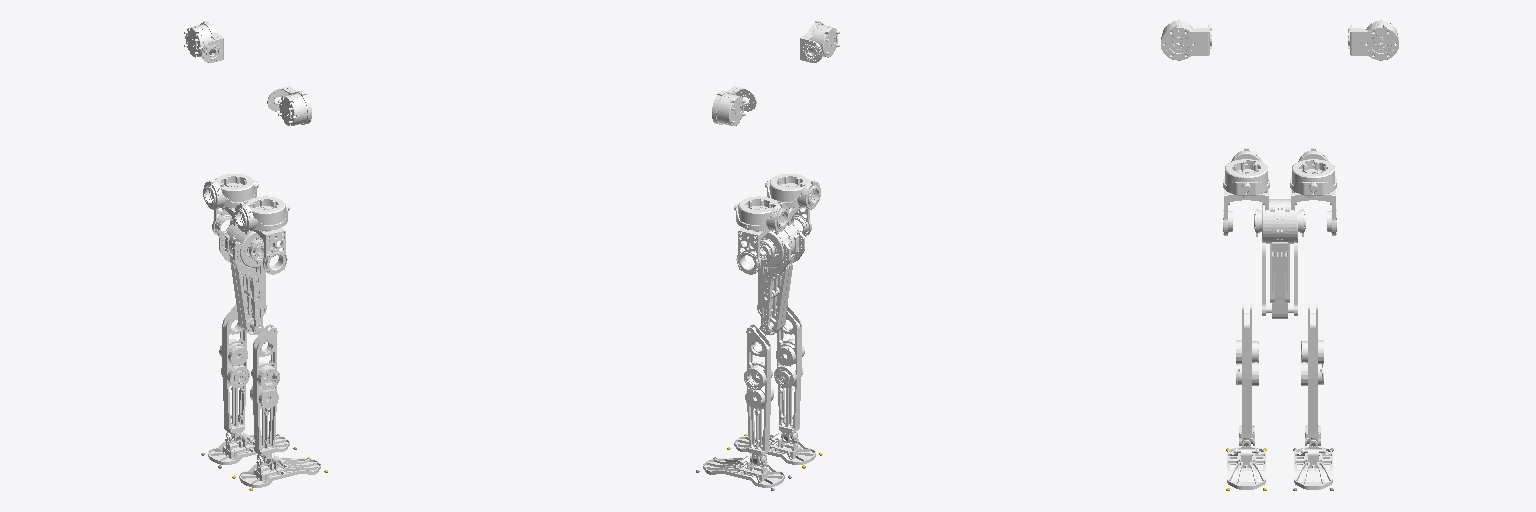
--- Render facts (derived) ---
The picture shows the robot from 3 angles, left to right: view 1: azimuth 30°, elevation 25°; view 2: azimuth 150°, elevation 25°; view 3: azimuth 270°, elevation 25°; orthographic projection.
Robot: biped_s41 — 28 links, 27 joints (14 revolute, 13 fixed); root link dummy_link; default pose: all joints at 0.
Visible links, largest first — view 1: leg_r4_link, leg_l4_link, leg_r3_link, leg_r1_link, leg_r6_link, leg_l1_link, leg_l3_link, zarm_r1_link, leg_r2_link, leg_l6_link, zarm_l1_link; view 2: leg_l4_link, leg_r4_link, leg_l3_link, leg_l1_link, leg_l6_link, leg_r1_link, leg_r3_link, zarm_l1_link, leg_l2_link, leg_r6_link, zarm_r1_link; view 3: leg_l4_link, leg_r4_link, leg_l3_link, leg_r3_link, leg_r1_link, leg_l1_link, zarm_l1_link, zarm_r1_link, leg_l6_link, leg_r6_link, leg_l2_link, leg_r2_link.
Link boxes in pixels (box(x1,y1,x2,y2)): leg_r4_link: box(250, 324, 279, 464); leg_l4_link: box(219, 305, 249, 442); leg_r3_link: box(225, 224, 266, 335); leg_r1_link: box(234, 196, 289, 231); leg_r6_link: box(232, 453, 327, 490); leg_l1_link: box(203, 174, 258, 209); leg_l3_link: box(219, 230, 272, 334); zarm_r1_link: box(267, 86, 311, 125); leg_r2_link: box(245, 227, 287, 274); leg_l6_link: box(201, 431, 296, 468); zarm_l1_link: box(184, 21, 223, 62); leg_l4_link: box(744, 324, 773, 464); leg_r4_link: box(774, 305, 804, 442); leg_l3_link: box(757, 224, 798, 335); leg_l1_link: box(734, 196, 789, 231); leg_l6_link: box(696, 453, 791, 490); leg_r1_link: box(765, 174, 820, 209); leg_r3_link: box(751, 230, 804, 334); zarm_l1_link: box(712, 86, 756, 125); leg_l2_link: box(736, 227, 778, 274); leg_r6_link: box(727, 431, 822, 468); zarm_r1_link: box(800, 21, 839, 62); leg_l4_link: box(1301, 304, 1323, 445); leg_r4_link: box(1236, 304, 1258, 445); leg_l3_link: box(1262, 199, 1297, 318); leg_r3_link: box(1262, 199, 1297, 318); leg_r1_link: box(1223, 148, 1269, 197); leg_l1_link: box(1290, 148, 1336, 197); zarm_l1_link: box(1348, 20, 1398, 60); zarm_r1_link: box(1161, 20, 1211, 60); leg_l6_link: box(1293, 438, 1333, 490); leg_r6_link: box(1226, 438, 1266, 490); leg_l2_link: box(1291, 189, 1336, 236); leg_r2_link: box(1223, 189, 1268, 236).
Size in the robot's own frame: 0.2583 by 0.6197 by 1.27 metres.
Meshes: 15 distinct files referenced, 14 mesh visuals loaded (14 binary STL); not drawn: 1 (reference not matched to a file when rendering).

The robot description file, URDF, robot "biped_s41":
<?xml version="1.0" encoding="utf-8"?>
<!-- This URDF was automatically created by SolidWorks to URDF Exporter! Originally created by Stephen Brawner ([email redacted]) 
     Commit Version: 1.6.0-1-g15f4949  Build Version: 1.6.7594.29634
     For more information, please see http://wiki.ros.org/sw_urdf_exporter -->
<robot
  name="biped_s41">
  <mujoco>
    <compiler meshdir="../meshes/" balanceinertia="true" discardvisual="false"/>
  </mujoco>
  <link name="dummy_link">
  </link>
  <link name="base_link">
    <inertial>
      <origin 
        xyz="0.00383143 0.0 0.18350901"
      	rpy="0 0 0" />
      <mass 
        value="26.37683"  />
      <inertia ixx="0.95851611" ixy="0.00026968" ixz="0.06381351" iyy="0.83635568" iyz="0.00069789" izz="0.29474019" />
    </inertial>
    <visual>
      <origin 
        xyz="0 0 0"
        rpy="0 0 0" />
      <geometry>
        <mesh filename="package://kuavo_assets/models/biped_s41/meshes/torso.STL" />
      </geometry>
      <material 
        name="">
        <color 
          rgba="1 1 1 1" />
      </material>
    </visual>
  </link>
  <joint name="dummy_to_base_link" type="fixed">
    <parent link="dummy_link"/>
    <child link="base_link"/>
    <origin rpy="0 0 0" xyz="0 0 0"/>
  </joint>
  
  <link
    name="leg_l1_link">
    <inertial>
      <origin
        xyz="-0.00430148 -0.00002708 -0.00851195"
        rpy="0 0 0" />
      <mass
        value="1.71093115" />
      <inertia
        ixx="0.00206092"
        ixy="-0.00000197"
        ixz="-0.00006944"
        iyy="0.00277274"
        iyz="0.00000510"
        izz="0.00370826" />
    </inertial>
    <visual>
      <origin
        xyz="0 0 0"
        rpy="0 0 0" />
      <geometry>
        <mesh
          filename="package://kuavo_assets/models/biped_s41/meshes/l_leg_roll.STL" />
      </geometry>
      <material
        name="">
        <color
          rgba="1 1 1 1" />
      </material>
    </visual>
    <!-- <collision>
      <origin
        xyz="0 0 0"
        rpy="0 0 0" />
      <geometry>
        <mesh
          filename="package://kuavo_assets/models/biped_s41/meshes/l_leg_roll.STL" />
      </geometry>
    </collision> -->
  </link>
  <joint
    name="leg_l1_joint"
    type="revolute">
    <origin
      xyz="-0.0024999 0.087 -0.066"
      rpy="0 0 0" />
    <parent
      link="base_link" />
    <child
      link="leg_l1_link" />
    <axis
      xyz="1 0 0" />
    <limit
      lower="-0.31416"
      upper="0.66323"
      effort="0"
      velocity="0" />
  </joint>
  <link
    name="leg_l2_link">
    <inertial>
      <origin
        xyz="0.00000000 -0.00322560 -0.09080869"
        rpy="0 0 0" />
      <mass
        value="0.55762936" />
      <inertia
        ixx="0.00213816"
        ixy="0.00000000"
        ixz="-0.00000003"
        iyy="0.00118284"
        iyz="0.00004162"
        izz="0.00139547" />
    </inertial>
    <visual>
      <origin
        xyz="0 0 0"
        rpy="0 0 0" />
      <geometry>
        <mesh
          filename="package://kuavo_assets/models/biped_s41/meshes/l_leg_yaw.STL" />
      </geometry>
      <material
        name="">
        <color
          rgba="1 1 1 1" />
      </material>
    </visual>
    <!-- <collision>
      <origin
        xyz="0 0 0"
        rpy="0 0 0" />
      <geometry>
        <mesh
          filename="package://kuavo_assets/models/biped_s41/meshes/l_leg_yaw.STL" />
      </geometry>
    </collision> -->
  </link>
  <joint
    name="leg_l2_joint"
    type="revolute">
    <origin
      xyz="0 0 0"
      rpy="0 0 0" />
    <parent
      link="leg_l1_link" />
    <child
      link="leg_l2_link" />
    <axis
      xyz="0 0 1" />
    <limit
      lower="-0.87266"
      upper="0.7854"
      effort="0"
      velocity="0" />
  </joint>
  <link
    name="leg_l3_link">
    <inertial>
      <origin
        xyz="0.00185677 0.01023458 -0.08558380"
        rpy="0 0 0" />
      <mass
        value="4.43577451" />
      <inertia
        ixx="0.04271209"
        ixy="-0.00000777"
        ixz="-0.00143032"
        iyy="0.04341831"
        iyz="-0.00092942"
        izz="0.01102339" />
    </inertial>
    <visual>
      <origin
        xyz="0 0 0"
        rpy="0 0 0" />
      <geometry>
        <mesh
          filename="package://kuavo_assets/models/biped_s41/meshes/l_leg_pitch.STL" />
      </geometry>
      <material
        name="">
        <color
          rgba="1 1 1 1" />
      </material>
    </visual>
    <!-- <collision>
      <origin
        xyz="0 0 0"
        rpy="0 0 0" />
      <geometry>
        <mesh
          filename="package://kuavo_assets/models/biped_s41/meshes/l_leg_pitch.STL" />
      </geometry>
    </collision> -->
  </link>
  <joint
    name="leg_l3_joint"
    type="revolute">
    <origin
      xyz="0 0 -0.1287"
      rpy="0 0 0" />
    <parent
      link="leg_l2_link" />
    <child
      link="leg_l3_link" />
    <axis
      xyz="0 1 0" />
    <limit
      lower="-1.5708"
      upper="2.0071"
      effort="0"
      velocity="0" />
  </joint>
  <link
    name="leg_l4_link">
    <inertial>
      <origin
        xyz="0.00716677 -0.00006696 -0.11481925"
        rpy="0 0 0" />
      <mass
        value="1.61274530" />
      <inertia
        ixx="0.01103699"
        ixy="0.00000084"
        ixz="-0.00000711"
        iyy="0.01095123"
        iyz="0.00000987"
        izz="0.00087225" />
    </inertial>
    <visual>
      <origin
        xyz="0 0 0"
        rpy="0 0 0" />
      <geometry>
        <mesh
          filename="package://kuavo_assets/models/biped_s41/meshes/l_knee.STL" />
      </geometry>
      <material
        name="">
        <color
          rgba="1 1 1 1" />
      </material>
    </visual>
    <!-- <collision>
      <origin
        xyz="0 0 0"
        rpy="0 0 0" />
      <geometry>
        <mesh
          filename="package://kuavo_assets/models/biped_s41/meshes/l_knee.STL" />
      </geometry>
    </collision> -->
  </link>
  <joint
    name="leg_l4_joint"
    type="revolute">
    <origin
      xyz="0 0 -0.284"
      rpy="0 0 0" />
    <parent
      link="leg_l3_link" />
    <child
      link="leg_l4_link" />
    <axis
      xyz="0 1 0" />
    <limit
      lower="0"
      upper="2.618"
      effort="0"
      velocity="0" />
  </joint>
  <link
    name="leg_l5_link">
    <inertial>
      <origin
        xyz="0.00000000 0.00000000 0.00000000"
        rpy="0 0 0" />
      <mass
        value="0.07193524" />
      <inertia
        ixx="0.00000692"
        ixy="0.00000000"
        ixz="0.00000000"
        iyy="0.00000692"
        iyz="0.00000000"
        izz="0.00001218" />
    </inertial>
    <visual>
      <origin
        xyz="0 0 0"
        rpy="0 0 0" />
      <geometry>
        <mesh
          filename="package://kuavo_assets/models/biped_s41/meshes/l_foot_pitch.STL" />
      </geometry>
      <material
        name="">
        <color
          rgba="0.647058823529412 0.619607843137255 0.588235294117647 1" />
      </material>
    </visual>
    <!-- <collision>
      <origin
        xyz="0 0 0"
        rpy="0 0 0" />
      <geometry>
        <mesh
          filename="package://kuavo_assets/models/biped_s41/meshes/l_foot_pitch.STL" />
      </geometry>
    </collision> -->
  </link>
  <joint
    name="leg_l5_joint"
    type="revolute">
    <origin
      xyz="0 0 -0.346"
      rpy="0 0 0" />
    <parent
      link="leg_l4_link" />
    <child
      link="leg_l5_link" />
    <axis
      xyz="0 1 0" />
    <limit
      lower="-0.38397"
      upper="0.73304"
      effort="0"
      velocity="0" />
  </joint>
  <link
    name="leg_l6_link">
    <inertial>
      <origin
        xyz="0.03732754 -0.00000222 -0.03883977"
        rpy="0 0 0" />
      <mass
        value="0.49861272" />
      <inertia
        ixx="0.00039242"
        ixy="-0.00000003"
        ixz="-0.00004664"
        iyy="0.00158655"
        iyz="0.00000000"
        izz="0.00172576" />
    </inertial>
    <visual>
      <origin
        xyz="0 0 0"
        rpy="0 0 0" />
      <geometry>
        <mesh
          filename="package://kuavo_assets/models/biped_s41/meshes/l_foot_roll.STL" />
      </geometry>
      <material
        name="">
        <color
          rgba="1 1 1 1" />
      </material>
    </visual>
    <!-- <collision>
      <origin
        xyz="0 0 0"
        rpy="0 0 0" />
      <geometry>
        <mesh
          filename="package://kuavo_assets/models/biped_s41/meshes/l_foot_roll.STL" />
      </geometry>
    </collision> -->
    <visual>
      <origin rpy="0 0 0" xyz="-0.07316 0.04773 -0.0593" />
      <geometry>
        <sphere radius="0.005" />
      </geometry>
    </visual>
    <collision>
      <origin rpy="0 0 0" xyz="-0.07316 0.04773 -0.0593" />
      <geometry>
        <sphere radius="0.005" />
      </geometry>
    </collision>
    <visual>
      <origin rpy="0 0 0" xyz="-0.07316 -0.04773 -0.0593" />
      <geometry>
        <sphere radius="0.005" />
      </geometry>
    </visual>
    <collision>
      <origin rpy="0 0 0" xyz="-0.07316 -0.04773 -0.0593" />
      <geometry>
        <sphere radius="0.005" />
      </geometry>
    </collision>
    <visual>
      <origin rpy="0 0 0" xyz="0.16902 0.04773 -0.0593" />
      <geometry>
        <sphere radius="0.005" />
      </geometry>
    </visual>
    <collision>
      <origin rpy="0 0 0" xyz="0.16902 0.04773 -0.0593" />
      <geometry>
        <sphere radius="0.005" />
      </geometry>
    </collision>
    <visual>
      <origin rpy="0 0 0" xyz="0.16902 -0.04773 -0.0593" />
      <geometry>
        <sphere radius="0.005" />
      </geometry>
    </visual>
    <collision>
      <origin rpy="0 0 0" xyz="0.16902 -0.04773 -0.0593" />
      <geometry>
        <sphere radius="0.005" />
      </geometry>
    </collision>
  </link>
  <joint
    name="leg_l6_joint"
    type="revolute">
    <origin
      xyz="0 0 0"
      rpy="0 0 0" />
    <parent
      link="leg_l5_link" />
    <child
      link="leg_l6_link" />
    <axis
      xyz="1 0 0" />
    <limit
      lower="-0.5236"
      upper="0.5236"
      effort="0"
      velocity="0" />
  </joint>

  <link
    name="ll_foot_toe">
    <collision>
        <origin rpy="0 0 0" xyz="0 0 0"/>
        <geometry>
            <sphere radius="0.005"/>
        </geometry>
    </collision>
  </link>
  <joint
    name="ll_foot_toe_joint"
    type="fixed">
    <origin
      xyz="0.16902 0.04773 -0.0593"
      rpy="0 0 0" />
    <parent
      link="leg_l6_link" />
    <child
      link="ll_foot_toe" />
  </joint>
  <link
    name="ll_foot_heel">
    <collision>
        <origin rpy="0 0 0" xyz="0 0 0"/>
        <geometry>
            <sphere radius="0.005"/>
        </geometry>
    </collision>
  </link>
  <joint
    name="ll_foot_heel_joint"
    type="fixed">
    <origin
      xyz="-0.07316 0.04773 -0.0593"
      rpy="0 0 0" />
    <parent
      link="leg_l6_link" />
    <child
      link="ll_foot_heel" />
  </joint>

  <link
    name="lr_foot_toe">
    <collision>
        <origin rpy="0 0 0" xyz="0 0 0"/>
        <geometry>
            <sphere radius="0.005"/>
        </geometry>
    </collision>
  </link>
  <joint
    name="lr_foot_toe_joint"
    type="fixed">
    <origin
      xyz="0.16902 -0.04773 -0.0593"
      rpy="0 0 0" />
    <parent
      link="leg_l6_link" />
    <child
      link="lr_foot_toe" />
  </joint>
  <link
    name="lr_foot_heel">
    <collision>
        <origin rpy="0 0 0" xyz="0 0 0"/>
        <geometry>
            <sphere radius="0.005"/>
        </geometry>
    </collision>
  </link>
  <joint
    name="lr_foot_heel_joint"
    type="fixed">
    <origin
      xyz="-0.07316 -0.04773 -0.0593"
      rpy="0 0 0" />
    <parent
      link="leg_l6_link" />
    <child
      link="lr_foot_heel" />
  </joint>
  <link
    name="l_foot_toe">
    <collision>
        <origin rpy="0 0 0" xyz="0 0 0"/>
        <geometry>
            <sphere radius="0.005"/>
        </geometry>
    </collision>
  </link>
  <joint
    name="l_foot_toe_joint"
    type="fixed">
    <origin
      xyz="0.17084 0.0 -0.0593"
      rpy="0 0 0" />
    <parent
      link="leg_l6_link" />
    <child
      link="l_foot_toe" />
  </joint>
  <link
    name="l_foot_heel">
    <collision>
        <origin rpy="0 0 0" xyz="0 0 0"/>
        <geometry>
            <sphere radius="0.005"/>
        </geometry>
    </collision>
  </link>
  <joint
    name="l_foot_heel_joint"
    type="fixed">
    <origin
      xyz="-0.07316 0.0 -0.0593"
      rpy="0 0 0" />
    <parent
      link="leg_l6_link" />
    <child
      link="l_foot_heel" />
  </joint>
  
  <link
    name="leg_r1_link">
    <inertial>
      <origin
        xyz="-0.00430146 0.00002709 -0.00851195"
        rpy="0 0 0" />
      <mass
        value="1.71093008" />
      <inertia
        ixx="0.00206092"
        ixy="0.00000197"
        ixz="-0.00006944"
        iyy="0.00277274"
        iyz="-0.00000510"
        izz="0.00370826" />
    </inertial>
    <visual>
      <origin
        xyz="0 0 0"
        rpy="0 0 0" />
      <geometry>
        <mesh
          filename="package://kuavo_assets/models/biped_s41/meshes/r_leg_roll.STL" />
      </geometry>
      <material
        name="">
        <color
          rgba="1 1 1 1" />
      </material>
    </visual>
    <!-- <collision>
      <origin
        xyz="0 0 0"
        rpy="0 0 0" />
      <geometry>
        <mesh
          filename="package://kuavo_assets/models/biped_s41/meshes/r_leg_roll.STL" />
      </geometry>
    </collision> -->
  </link>
  <joint
    name="leg_r1_joint"
    type="revolute">
    <origin
      xyz="-0.0024999 -0.087 -0.066"
      rpy="0 0 0" />
    <parent
      link="base_link" />
    <child
      link="leg_r1_link" />
    <axis
      xyz="1 0 0" />
    <limit
      lower="-0.31416"
      upper="0.66323"
      effort="0"
      velocity="0" />
  </joint>
  <link
    name="leg_r2_link">
    <inertial>
      <origin
        xyz="0.00000000 0.00322561 -0.09080869"
        rpy="0 0 0" />
      <mass
        value="0.55762928" />
      <inertia
        ixx="0.00213816"
        ixy="0.00000000"
        ixz="-0.00000003"
        iyy="0.00118284"
        iyz="-0.00004162"
        izz="0.00139547" />
    </inertial>
    <visual>
      <origin
        xyz="0 0 0"
        rpy="0 0 0" />
      <geometry>
        <mesh
          filename="package://kuavo_assets/models/biped_s41/meshes/r_leg_yaw.STL" />
      </geometry>
      <material
        name="">
        <color
          rgba="1 1 1 1" />
      </material>
    </visual>
    <!-- <collision>
      <origin
        xyz="0 0 0"
        rpy="0 0 0" />
      <geometry>
        <mesh
          filename="package://kuavo_assets/models/biped_s41/meshes/r_leg_yaw.STL" />
      </geometry>
    </collision> -->
  </link>
  <joint
    name="leg_r2_joint"
    type="revolute">
    <origin
      xyz="0 0 0"
      rpy="0 0 0" />
    <parent
      link="leg_r1_link" />
    <child
      link="leg_r2_link" />
    <axis
      xyz="0 0 1" />
    <limit
      lower="-0.87266"
      upper="0.7854"
      effort="0"
      velocity="0" />
  </joint>
  <link
    name="leg_r3_link">
    <inertial>
      <origin
        xyz="0.00185677 -0.01023458 -0.08558380"
        rpy="0 0 0" />
      <mass
        value="4.43577451" />
      <inertia
        ixx="0.04271209"
        ixy="-0.00000777"
        ixz="-0.00143032"
        iyy="0.04420935"
        iyz="-0.00092942"
        izz="0.01102339" />
    </inertial>
    <visual>
      <origin
        xyz="0 0 0"
        rpy="0 0 0" />
      <geometry>
        <mesh
          filename="package://kuavo_assets/models/biped_s41/meshes/r_leg_pitch.STL" />
      </geometry>
      <material
        name="">
        <color
          rgba="1 1 1 1" />
      </material>
    </visual>
    <!-- <collision>
      <origin
        xyz="0 0 0"
        rpy="0 0 0" />
      <geometry>
        <mesh
          filename="package://kuavo_assets/models/biped_s41/meshes/r_leg_pitch.STL" />
      </geometry>
    </collision> -->
  </link>
  <joint
    name="leg_r3_joint"
    type="revolute">
    <origin
      xyz="0 0 -0.1287"
      rpy="0 0 0" />
    <parent
      link="leg_r2_link" />
    <child
      link="leg_r3_link" />
    <axis
      xyz="0 1 0" />
    <limit
      lower="-1.5708"
      upper="2.0071"
      effort="0"
      velocity="0" />
  </joint>
  <link
    name="leg_r4_link">
    <inertial>
      <origin
        xyz="0.00716677 0.00006696 -0.11481925"
        rpy="0 0 0" />
      <mass
        value="1.61274530" />
      <inertia
        ixx="0.01103699"
        ixy="0.00000084"
        ixz="-0.00000711"
        iyy="0.01095123"
        iyz="0.00000987"
        izz="0.00087225" />
    </inertial>
    <visual>
      <origin
        xyz="0 0 0"
        rpy="0 0 0" />
      <geometry>
        <mesh
          filename="package://kuavo_assets/models/biped_s41/meshes/r_knee.STL" />
      </geometry>
      <material
        name="">
        <color
          rgba="1 1 1 1" />
      </material>
    </visual>
    <!-- <collision>
      <origin
        xyz="0 0 0"
        rpy="0 0 0" />
      <geometry>
        <mesh
          filename="package://kuavo_assets/models/biped_s41/meshes/r_knee.STL" />
      </geometry>
    </collision> -->
  </link>
  <joint
    name="leg_r4_joint"
    type="revolute">
    <origin
      xyz="0 0 -0.284"
      rpy="0 0 0" />
    <parent
      link="leg_r3_link" />
    <child
      link="leg_r4_link" />
    <axis
      xyz="0 1 0" />
    <limit
      lower="0"
      upper="2.618"
      effort="0"
      velocity="0" />
  </joint>
  <link
    name="leg_r5_link">
    <inertial>
      <origin
        xyz="0.00000000 0.00000000 0.00000000"
        rpy="0 0 0" />
      <mass
        value="0.07193524" />
      <inertia
        ixx="0.00000692"
        ixy="0.00000000"
        ixz="0.00000000"
        iyy="0.00000692"
        iyz="0.00000000"
        izz="0.00001218" />
    </inertial>
    <visual>
      <origin
        xyz="0 0 0"
        rpy="0 0 0" />
      <geometry>
        <mesh
          filename="package://kuavo_assets/models/biped_s41/meshes/r_foot_pitch.STL" />
      </geometry>
      <material
        name="">
        <color
          rgba="0.647058823529412 0.619607843137255 0.588235294117647 1" />
      </material>
    </visual>
    <!-- <collision>
      <origin
        xyz="0 0 0"
        rpy="0 0 0" />
      <geometry>
        <mesh
          filename="package://kuavo_assets/models/biped_s41/meshes/r_foot_pitch.STL" />
      </geometry>
    </collision> -->
  </link>
  <joint
    name="leg_r5_joint"
    type="revolute">
    <origin
      xyz="0 0 -0.346"
      rpy="0 0 0" />
    <parent
      link="leg_r4_link" />
    <child
      link="leg_r5_link" />
    <axis
      xyz="0 1 0" />
    <limit
      lower="-0.38397"
      upper="0.73304"
      effort="0"
      velocity="0" />
  </joint>
  <link
    name="leg_r6_link">
    <inertial>
      <origin
        xyz="0.03732754 -0.00000222 -0.03883977"
        rpy="0 0 0" />
      <mass
        value="0.49861272" />
      <inertia
        ixx="0.00039242"
        ixy="-0.00000003"
        ixz="-0.00004664"
        iyy="0.00158655"
        iyz="0.00000000"
        izz="0.00172576" />
    </inertial>
    <visual>
      <origin
        xyz="0 0 0"
        rpy="0 0 0" />
      <geometry>
        <mesh
          filename="package://kuavo_assets/models/biped_s41/meshes/r_foot_roll.STL" />
      </geometry>
      <material
        name="">
        <color
          rgba="1 1 1 1" />
      </material>
    </visual>
    <!-- <collision>
      <origin
        xyz="0 0 0"
        rpy="0 0 0" />
      <geometry>
        <mesh
          filename="package://kuavo_assets/models/biped_s41/meshes/r_foot_roll.STL" />
      </geometry>
    </collision> -->
    <visual>
      <origin rpy="0 0 0" xyz="-0.07316 0.04773 -0.0593" />
      <geometry>
        <sphere radius="0.005" />
      </geometry>
    </visual>
    <collision>
      <origin rpy="0 0 0" xyz="-0.07316 0.04773 -0.0593" />
      <geometry>
        <sphere radius="0.005" />
      </geometry>
    </collision>
    <visual>
      <origin rpy="0 0 0" xyz="-0.07316 -0.04773 -0.0593" />
      <geometry>
        <sphere radius="0.005" />
      </geometry>
    </visual>
    <collision>
      <origin rpy="0 0 0" xyz="-0.07316 -0.04773 -0.0593" />
      <geometry>
        <sphere radius="0.005" />
      </geometry>
    </collision>
    <visual>
      <origin rpy="0 0 0" xyz="0.16902 0.04773 -0.0593" />
      <geometry>
        <sphere radius="0.005" />
      </geometry>
    </visual>
    <collision>
      <origin rpy="0 0 0" xyz="0.16902 0.04773 -0.0593" />
      <geometry>
        <sphere radius="0.005" />
      </geometry>
    </collision>
    <visual>
      <origin rpy="0 0 0" xyz="0.16902 -0.04773 -0.0593" />
      <geometry>
        <sphere radius="0.005" />
      </geometry>
    </visual>
    <collision>
      <origin rpy="0 0 0" xyz="0.16902 -0.04773 -0.0593" />
      <geometry>
        <sphere radius="0.005" />
      </geometry>
    </collision>
  </link>
  <joint
    name="leg_r6_joint"
    type="revolute">
    <origin
      xyz="0 0 0"
      rpy="0 0 0" />
    <parent
      link="leg_r5_link" />
    <child
      link="leg_r6_link" />
    <axis
      xyz="1 0 0" />
    <limit
      lower="-0.5236"
      upper="0.5236"
      effort="0"
      velocity="0" />
  </joint>

  <link
    name="rl_foot_toe">
    <collision>
        <origin rpy="0 0 0" xyz="0 0 0"/>
        <geometry>
            <sphere radius="0.005"/>
        </geometry>
    </collision>
  </link>
  <joint
    name="rl_foot_toe_joint"
    type="fixed">
    <origin
      xyz="0.16902 0.04773 -0.0593"
      rpy="0 0 0" />
    <parent
      link="leg_r6_link" />
    <child
      link="rl_foot_toe" />
  </joint>
  <link
    name="rl_foot_heel">
    <collision>
        <origin rpy="0 0 0" xyz="0 0 0"/>
        <geometry>
            <sphere radius="0.005"/>
        </geometry>
    </collision>
  </link>
  <joint
    name="rl_foot_heel_joint"
    type="fixed">
    <origin
      xyz="-0.07316 0.04773 -0.0593"
      rpy="0 0 0" />
    <parent
      link="leg_r6_link" />
    <child
      link="rl_foot_heel" />
  </joint>
  <link
    name="rr_foot_toe">
    <collision>
        <origin rpy="0 0 0" xyz="0 0 0"/>
        <geometry>
            <sphere radius="0.005"/>
        </geometry>
    </collision>
  </link>
  <joint
    name="rr_foot_toe_joint"
    type="fixed">
    <origin
      xyz="0.16902 -0.04773 -0.0593"
      rpy="0 0 0" />
    <parent
      link="leg_r6_link" />
    <child
      link="rr_foot_toe" />
  </joint>
  <link
    name="rr_foot_heel">
    <collision>
        <origin rpy="0 0 0" xyz="0 0 0"/>
        <geometry>
            <sphere radius="0.005"/>
        </geometry>
    </collision>
  </link>
  <joint
    name="rr_foot_heel_joint"
    type="fixed">
    <origin
      xyz="-0.07316 -0.04773 -0.0593"
      rpy="0 0 0" />
    <parent
      link="leg_r6_link" />
    <child
      link="rr_foot_heel" />
  </joint>
  <link
    name="r_foot_toe">
    <collision>
        <origin rpy="0 0 0" xyz="0 0 0"/>
        <geometry>
            <sphere radius="0.005"/>
        </geometry>
    </collision>
  </link>
  <joint
    name="r_foot_toe_joint"
    type="fixed">
    <origin
      xyz="0.17084 -0.0 -0.0593"
      rpy="0 0 0" />
    <parent
      link="leg_r6_link" />
    <child
      link="r_foot_toe" />
  </joint>
  <link
    name="r_foot_heel">
    <collision>
        <origin rpy="0 0 0" xyz="0 0 0"/>
        <geometry>
            <sphere radius="0.005"/>
        </geometry>
    </collision>
  </link>
  <joint
    name="r_foot_heel_joint"
    type="fixed">
    <origin
      xyz="-0.07316 -0.0 -0.0593"
      rpy="0 0 0" />
    <parent
      link="leg_r6_link" />
    <child
      link="r_foot_heel" />
  </joint>

  <link
    name="zarm_l1_link">
    <inertial>
      <origin
        xyz="0.0146835191418715 -0.0166604103758634 -6.82857133371129E-05"
        rpy="0 0 0" />
      <mass
        value="0.794" />
      <inertia
        ixx="0.0002674432873971"
        ixy="-2.5654089149164E-05"
        ixz="-1.72966133127553E-07"
        iyy="0.000125796784291983"
        iyz="-1.66717296343013E-06"
        izz="0.000196186976742156" />
    </inertial>
    <visual>
      <origin
        xyz="0 0 0"
        rpy="0 0 0" />
      <geometry>
        <mesh
          filename="package://kuavo_assets/models/biped_s41/meshes/l_arm_pitch.STL" />
      </geometry>
      <material
        name="">
        <color
          rgba="1 1 1 1" />
      </material>
    </visual>    
  </link>
  <joint
    name="zarm_l1_joint"
    type="revolute">
    <origin
      xyz="-0.0175475823124921 0.262700000000031 0.3245"
      rpy="0 0 0" />
    <parent
      link="base_link" />
    <child
      link="zarm_l1_link" />
    <axis
      xyz="0 1 0" />
    <limit 
      lower="-2.0933" 
      upper="0.5233" 
      effort="60" 
      velocity="14" />
    <dynamic
      damping="0.2" />
  </joint>


  <link
    name="zarm_r1_link">
    <inertial>
      <origin
        xyz="0.0146743511434554 0.0168298008224051 -8.16711977456031E-05"
        rpy="0 0 0" />
      <mass
        value="0.794" />
      <inertia
        ixx="0.000267364314112701"
        ixy="2.58822573731612E-05"
        ixz="-1.74450019197634E-07"
        iyy="0.000125724274127356"
        iyz="1.71810516637517E-06"
        izz="0.000196179895851995" />
    </inertial>
    <visual>
      <origin
        xyz="0 0 0"
        rpy="0 0 0" />
      <geometry>
        <mesh
          filename="package://kuavo_assets/models/biped_s41/meshes/r_arm_pitch.STL" />
      </geometry>
      <material
        name="">
        <color
          rgba="1 1 1 1" />
      </material>
    </visual>   
  </link>
  <joint
    name="zarm_r1_joint"
    type="revolute">
    <origin
      xyz="-0.0175475823119764 -0.262700000000031 0.3245"
      rpy="0 0 0" />
    <parent
      link="base_link" />
    <child
      link="zarm_r1_link" />
    <axis
      xyz="0 1 0" />
    <limit 
      lower="-2.0933" 
      upper="0.5233" 
      effort="60" 
      velocity="14" />
    <dynamic
      damping="0.2" />
  </joint>

</robot>
